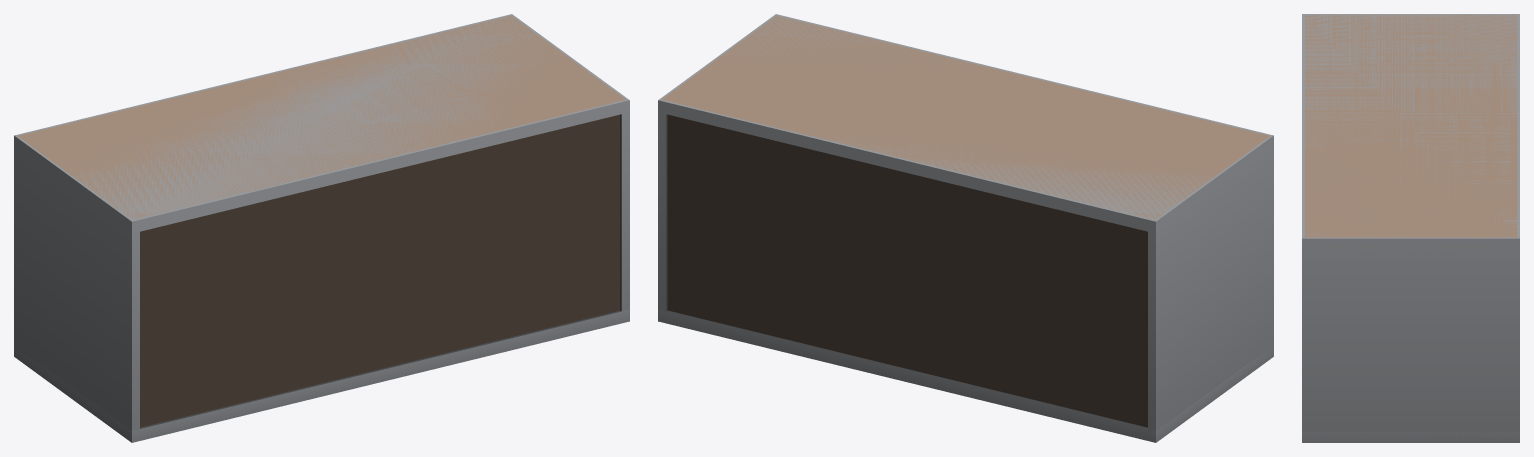
File: container.lod1.glb
3 renders of one model, left to right at view 1: azimuth 30°, elevation 25°; view 2: azimuth 150°, elevation 25°; view 3: azimuth 270°, elevation 25°, orthographic. The views are drawn at different scales.
Parts seen in each view (by area): view 1: props_container.lod1; view 2: props_container.lod1; view 3: props_container.lod1.
Part boxes in pixels (left/top/right/bottom): props_container.lod1: left=14, top=14, right=629, bottom=442; props_container.lod1: left=658, top=14, right=1273, bottom=442; props_container.lod1: left=1302, top=14, right=1519, bottom=442.
Size of the model in its own units: 6.1 by 2.59 by 2.5.
